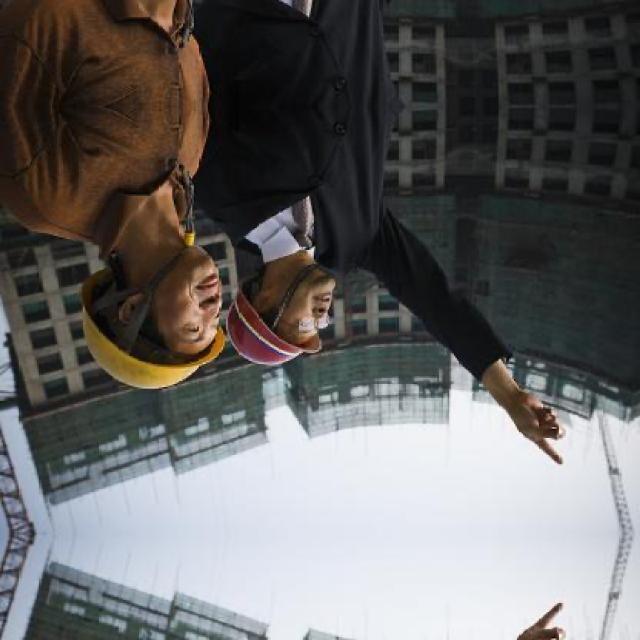con casco: (217, 196, 368, 391), (80, 208, 222, 396)
